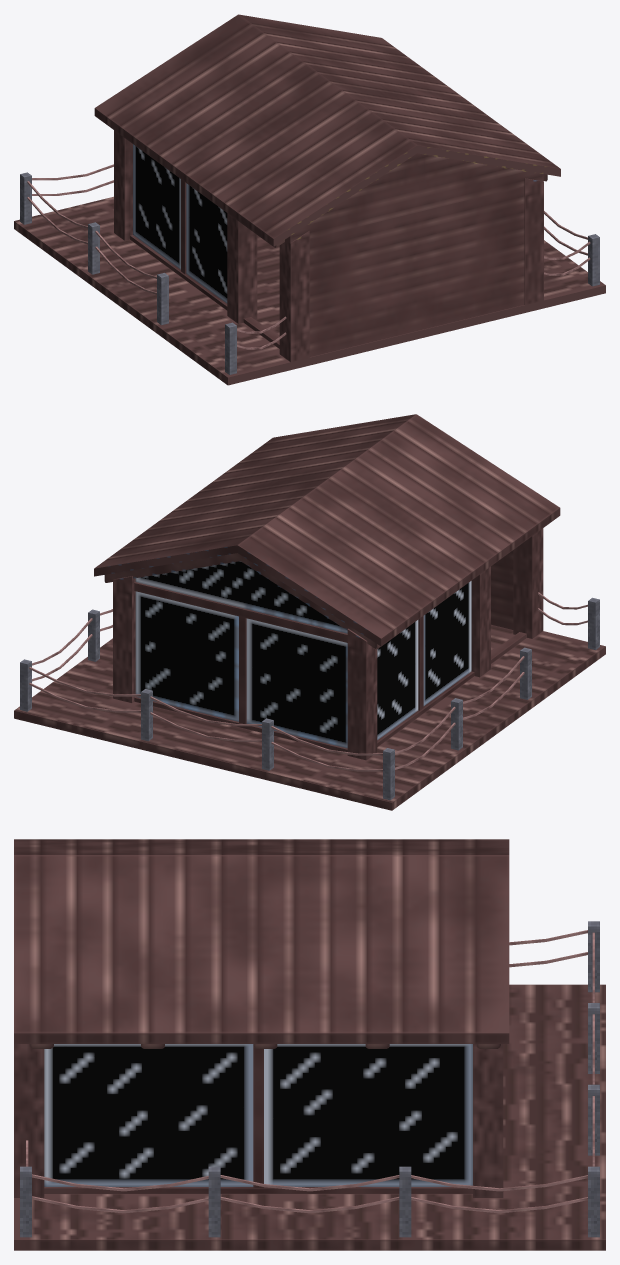
Rendered from pixel_cabin_lowpoly.fbx.
3 renders of one model, top to bottom at view 1: azimuth 30°, elevation 25°; view 2: azimuth 150°, elevation 25°; view 3: azimuth 270°, elevation 25°, orthographic. The views are drawn at different scales.
Parts seen in each view (by area): view 1: pixel_cabin_lowpoly, pixel_glass_lowpoly, pixel_support2_lowpoly, pixel_rope_lowpoly; view 2: pixel_cabin_lowpoly, pixel_glass_lowpoly, pixel_support2_lowpoly, pixel_rope_lowpoly, pixel_support_lowpoly; view 3: pixel_cabin_lowpoly, pixel_glass_lowpoly, pixel_support2_lowpoly, pixel_rope_lowpoly, pixel_support_lowpoly.
Boxes of the visible parts, x1,y1,x2,y2 form: pixel_cabin_lowpoly: (14, 14, 605, 385); pixel_glass_lowpoly: (133, 144, 227, 303); pixel_support2_lowpoly: (20, 172, 599, 374); pixel_rope_lowpoly: (27, 164, 590, 349); pixel_cabin_lowpoly: (14, 414, 605, 810); pixel_glass_lowpoly: (135, 561, 471, 748); pixel_support2_lowpoly: (20, 597, 599, 800); pixel_rope_lowpoly: (29, 592, 587, 771); pixel_support_lowpoly: (104, 553, 380, 649); pixel_cabin_lowpoly: (14, 839, 605, 1250); pixel_glass_lowpoly: (44, 1044, 472, 1186); pixel_support2_lowpoly: (20, 921, 599, 1237); pixel_rope_lowpoly: (26, 930, 594, 1213); pixel_support_lowpoly: (29, 1044, 500, 1048).
Size of the model in its own units: 312 by 153 by 306.
